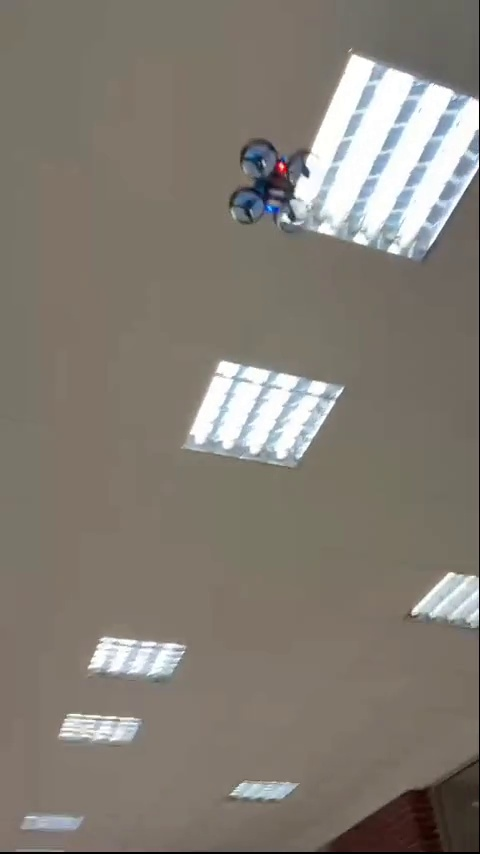drone: (232, 143, 321, 227)
